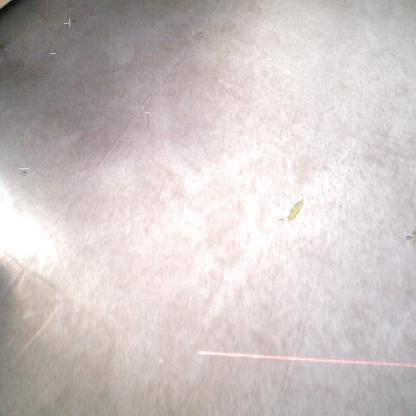dirty: (286, 199, 304, 223), (408, 233, 416, 242)
mark: (193, 30, 203, 40), (144, 112, 150, 125), (278, 215, 286, 224), (20, 168, 29, 176), (69, 19, 76, 27), (50, 53, 56, 62), (64, 23, 71, 29)
